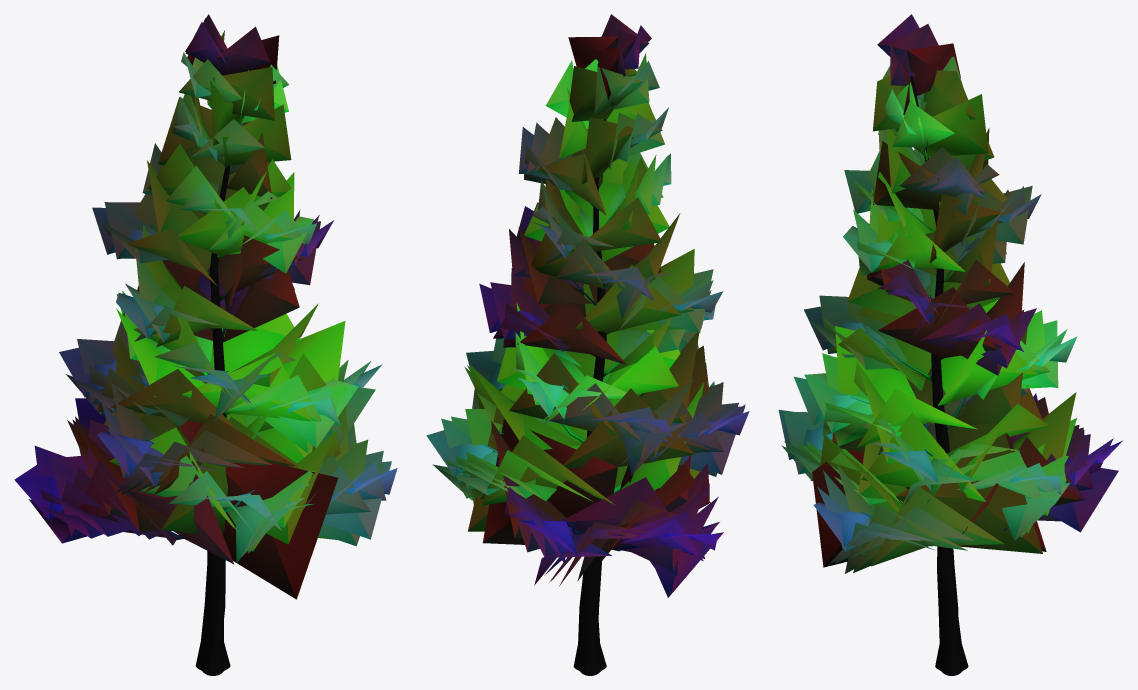
File: SM_HTTree_05.FBX
3 renders of one model, left to right at view 1: azimuth 30°, elevation 25°; view 2: azimuth 150°, elevation 25°; view 3: azimuth 270°, elevation 25°, orthographic. The views are drawn at different scales.
Visible parts, largest first — view 1: SM_HTTree_05_LOD0; view 2: SM_HTTree_05_LOD0; view 3: SM_HTTree_05_LOD0.
Boxes of the visible parts, x1,y1,x2,y2 form: SM_HTTree_05_LOD0: (14, 14, 397, 675); SM_HTTree_05_LOD0: (426, 14, 749, 675); SM_HTTree_05_LOD0: (778, 14, 1122, 675).
Size of what is drawn, in the model's own units: 440 by 435 by 889.
